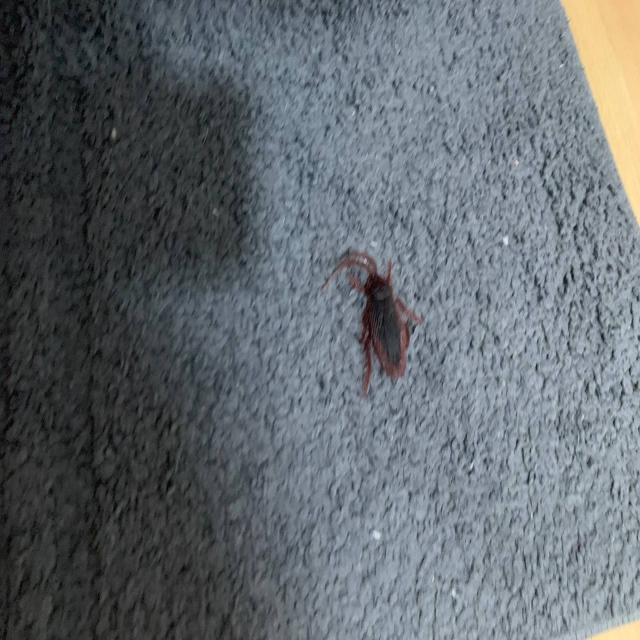Cockroach: (326, 240, 422, 399)
